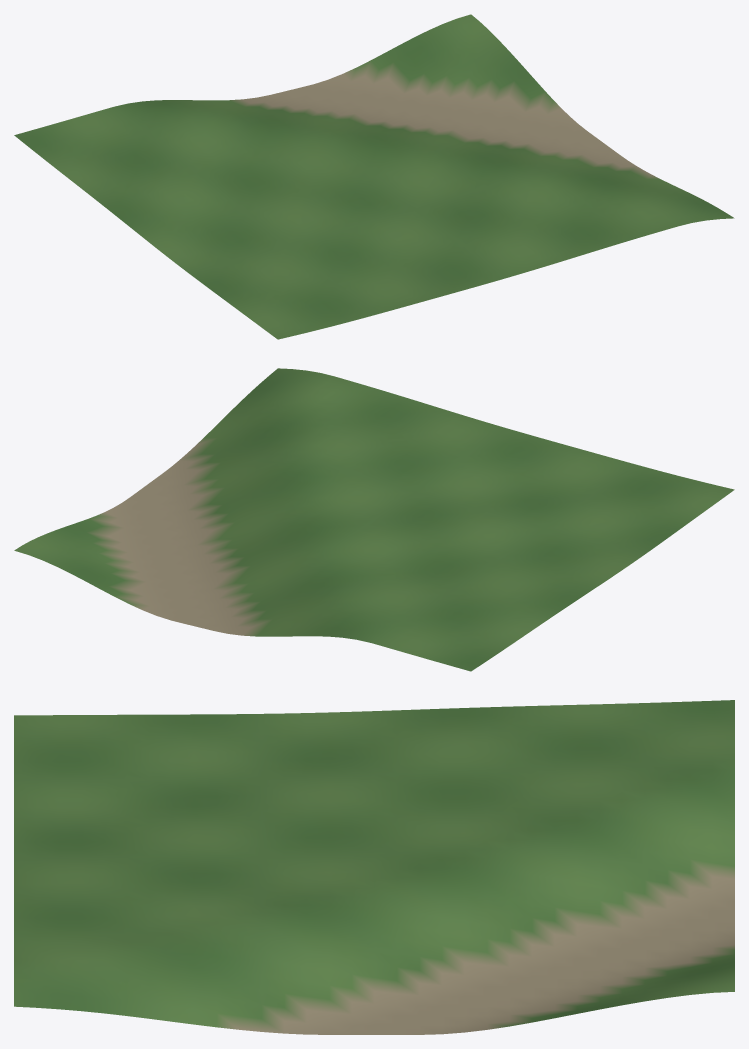
File: chunk_4_6.glb
The picture shows the model from 3 angles, top to bottom: view 1: azimuth 30°, elevation 25°; view 2: azimuth 150°, elevation 25°; view 3: azimuth 270°, elevation 25°; orthographic projection. The views are drawn at different scales.
Bounding box in the file's own units: 512 × 33.81 × 512.
